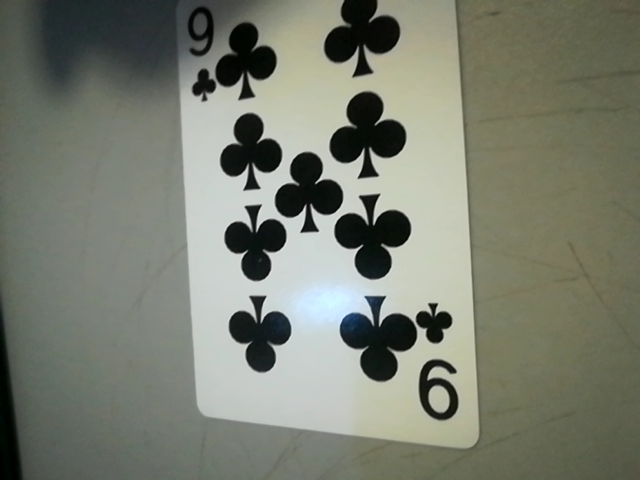mh 9: (409, 295, 473, 433)
